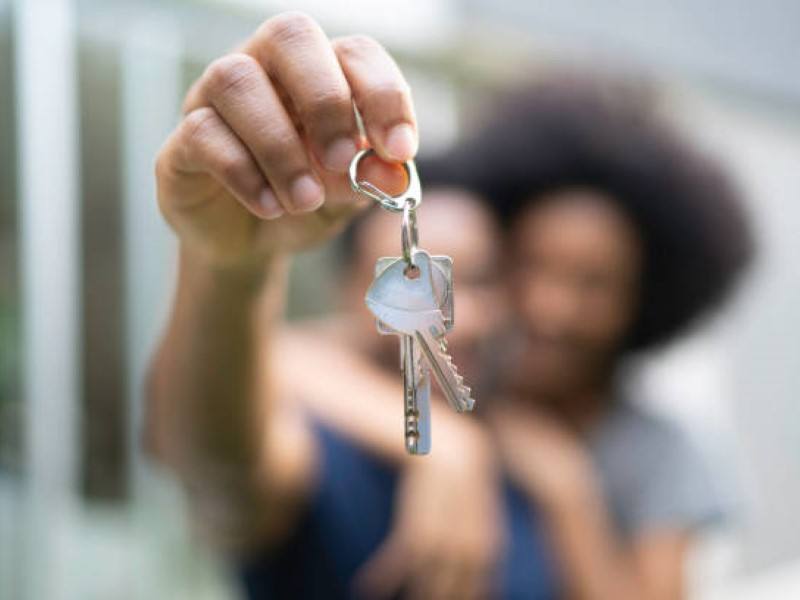key: (368, 243, 480, 456)
